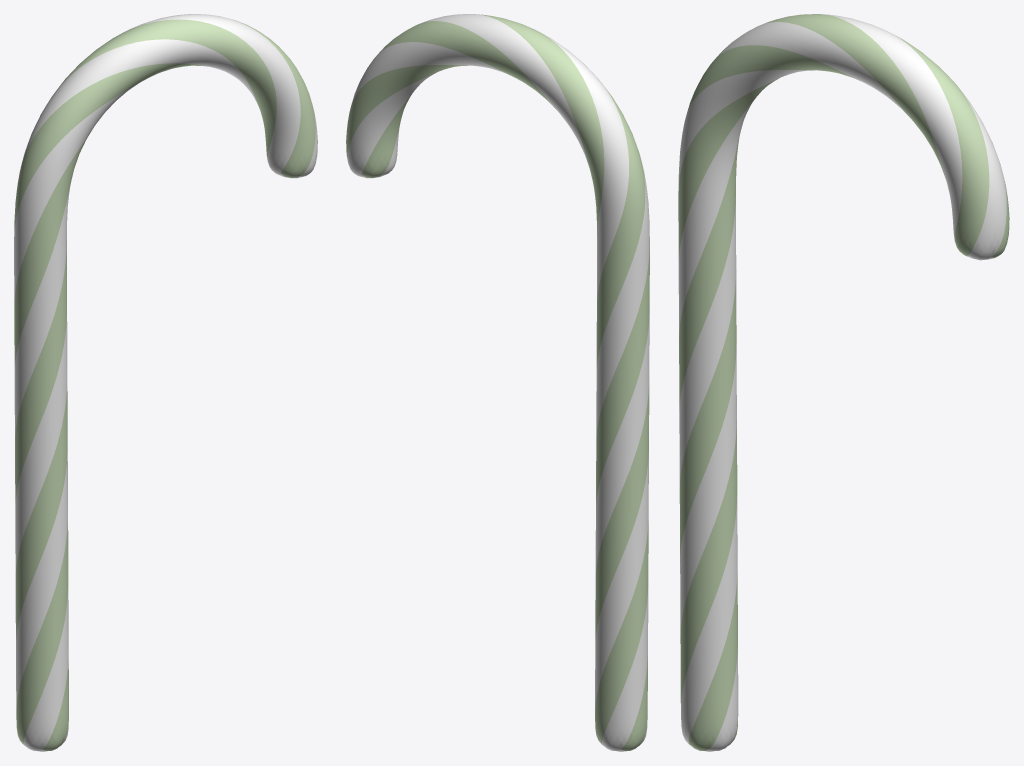
The model's file is greencandycane.gltf.
3 views of the same model, side by side, from view 1: azimuth 30°, elevation 25°; view 2: azimuth 150°, elevation 25°; view 3: azimuth 330°, elevation 25° (orthographic). The views are drawn at different scales.
Parts seen in each view (by area): view 1: Circle.001; view 2: Circle.001; view 3: Circle.001.
Boxes of the visible parts, <box> form: Circle.001: <box>14,14,317,751</box>; Circle.001: <box>346,14,649,751</box>; Circle.001: <box>678,14,1009,751</box>.
Size of the model in its own units: 2.34 by 5.25 by 0.3596.
